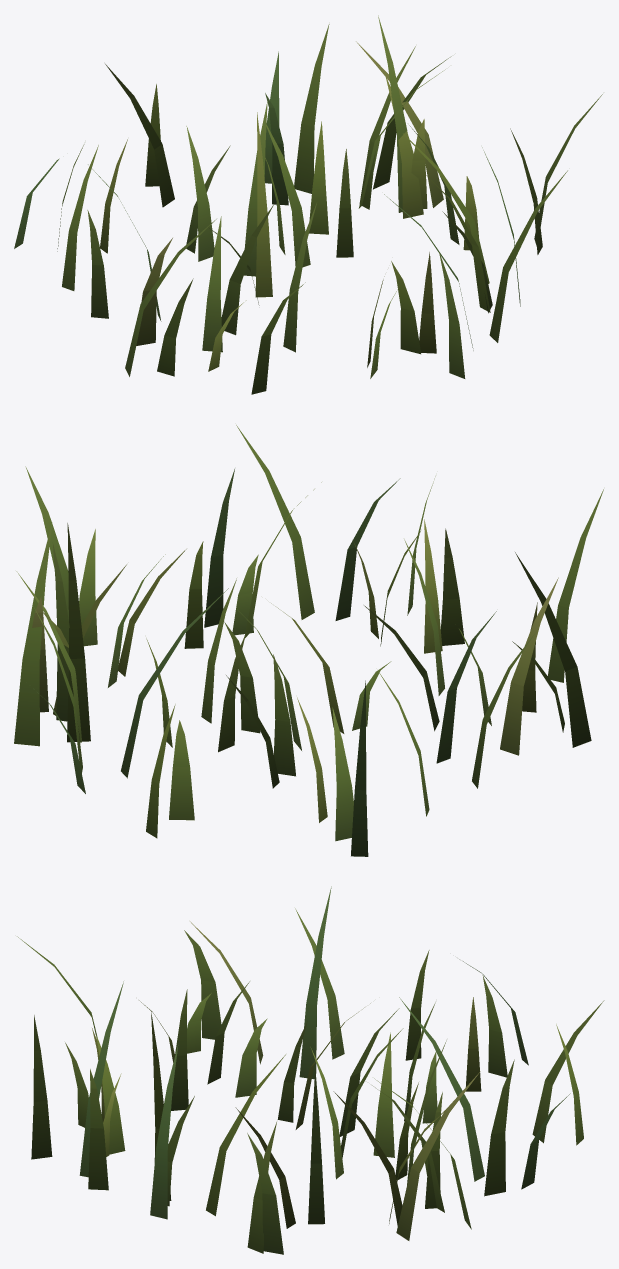
The model's file is GR_plukje1.fbx.
The picture shows the model from 3 angles, top to bottom: view 1: azimuth 30°, elevation 25°; view 2: azimuth 150°, elevation 25°; view 3: azimuth 270°, elevation 25°; orthographic projection. The views are drawn at different scales.
Visible parts, largest first — view 1: GR_plukje1; view 2: GR_plukje1; view 3: GR_plukje1.
Boxes of the visible parts, left/top/right/bottom form: GR_plukje1: left=14, top=15, right=602, bottom=394; GR_plukje1: left=14, top=425, right=603, bottom=856; GR_plukje1: left=17, top=886, right=604, bottom=1254.
Size of the model in its own units: 0.2966 by 0.1039 by 0.306.
Materials: 1 (1 with a texture image).
